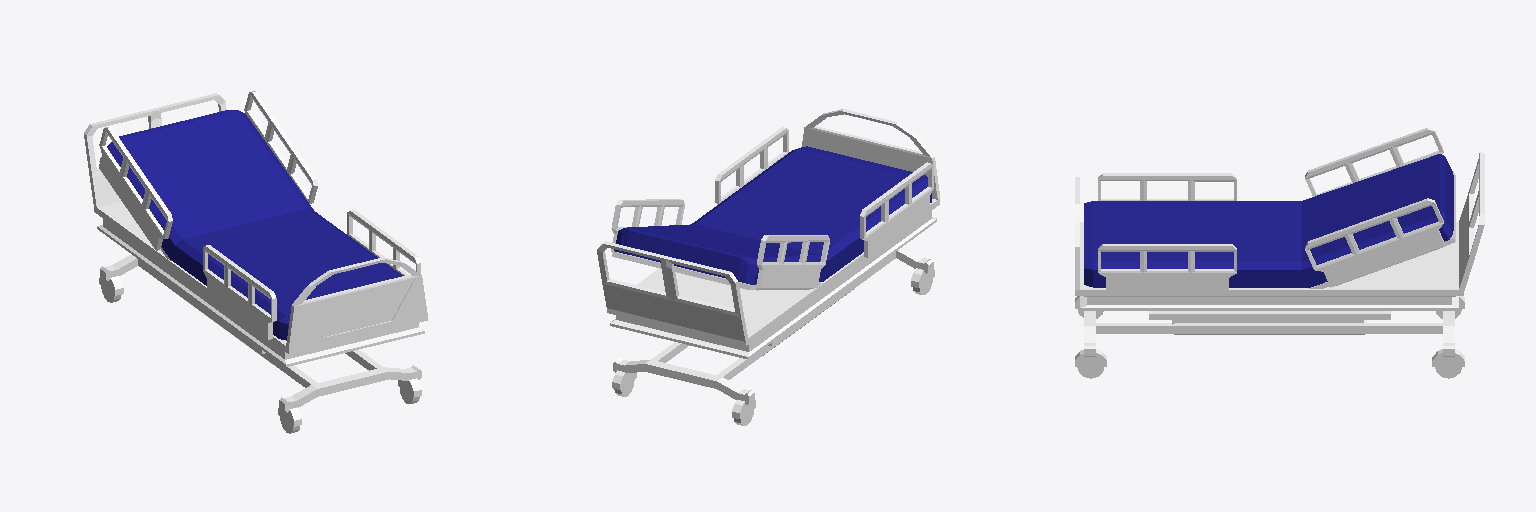
The model's file is Hosp_Bed_Obj.obj.
The picture shows the model from 3 angles: view 1: azimuth 30°, elevation 25°; view 2: azimuth 150°, elevation 25°; view 3: azimuth 270°, elevation 25°; orthographic projection.
Parts seen in each view (by area): view 1: polySurface1; view 2: polySurface1; view 3: polySurface1.
Boxes of the visible parts, x1,y1,x2,y2 form: polySurface1: [84, 91, 427, 433]; polySurface1: [597, 109, 939, 425]; polySurface1: [1075, 128, 1484, 378].
Size of the model in its own units: 1.07 by 1.26 by 2.54.